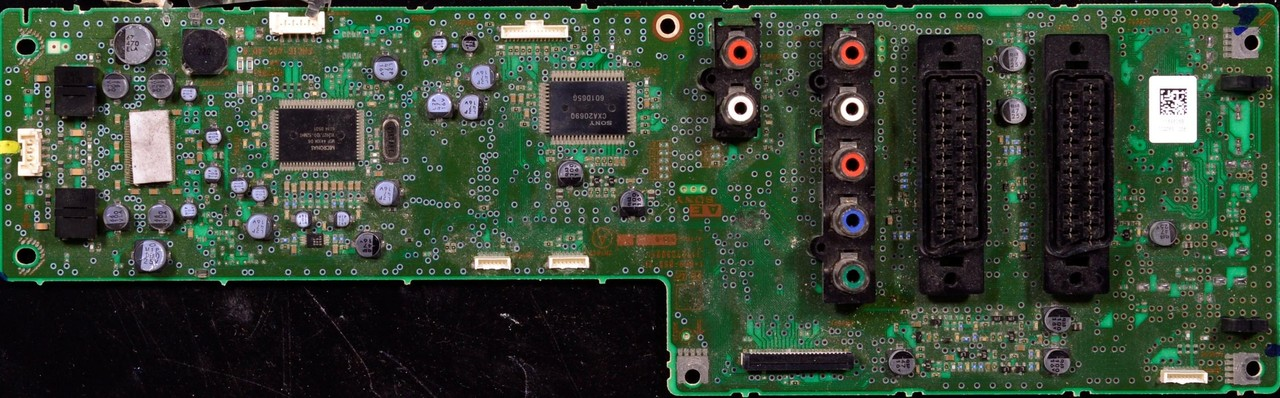Capacitor: (116, 26, 154, 64), (1145, 218, 1184, 249), (1044, 350, 1082, 380), (372, 54, 410, 83), (1047, 307, 1077, 340), (555, 160, 586, 190), (136, 241, 167, 269), (148, 202, 176, 232), (245, 211, 276, 237), (375, 178, 403, 206), (462, 94, 487, 122), (425, 92, 454, 116), (105, 207, 131, 233), (354, 232, 380, 258), (619, 190, 646, 215), (180, 202, 209, 225), (100, 75, 127, 99), (999, 97, 1026, 121), (1001, 46, 1024, 71), (892, 349, 913, 375), (149, 72, 172, 94), (475, 65, 494, 89), (182, 83, 200, 105), (229, 178, 249, 197), (202, 167, 223, 185), (204, 128, 222, 147), (254, 183, 271, 202), (296, 211, 311, 229), (432, 34, 448, 50), (334, 213, 352, 226)
Connector: (822, 21, 885, 298), (922, 31, 984, 301), (1047, 32, 1108, 290), (718, 20, 764, 152), (741, 350, 854, 373), (264, 7, 330, 41), (503, 19, 574, 43)
IC: (268, 95, 368, 175), (541, 73, 639, 141)
